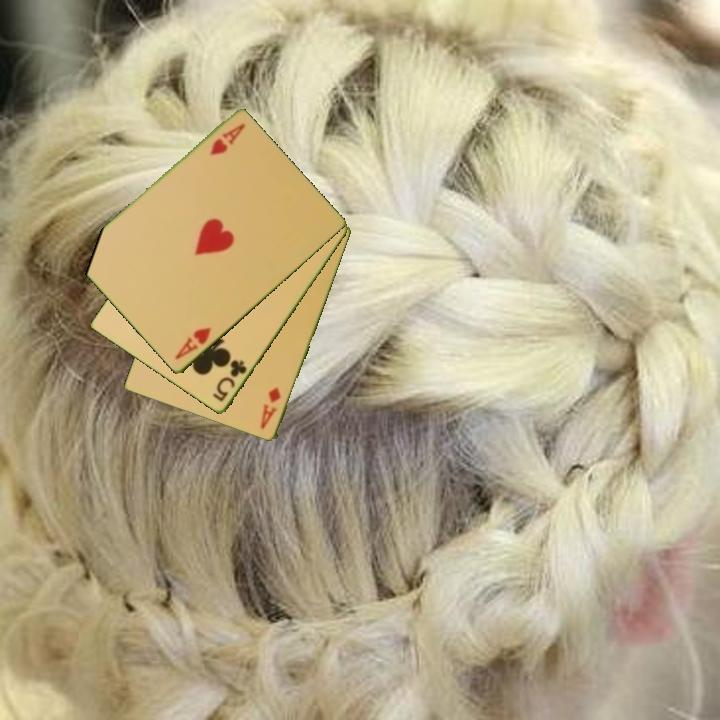5c: (209, 356, 250, 405)
Ad: (257, 384, 284, 432)
Ah: (171, 324, 214, 363), (207, 120, 249, 159)
